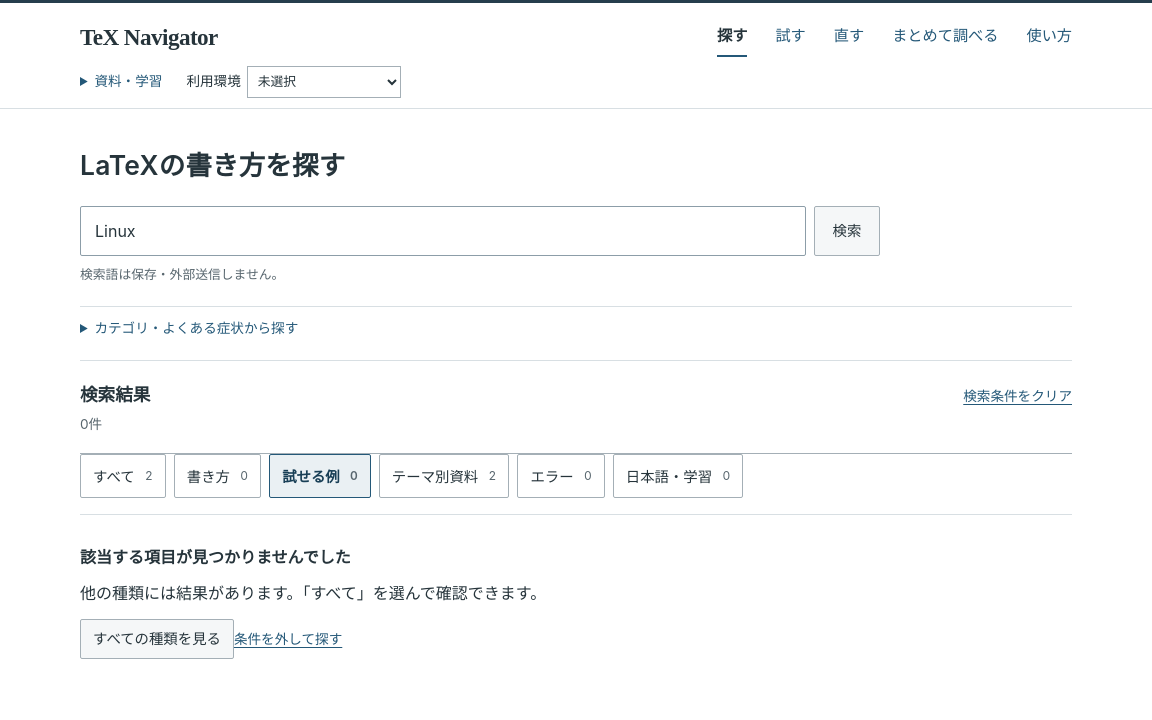
Scenario: 別の種類に結果がある場合は、同じ検索語で全種類へ戻せる
Expected: the text "他の種類には結果があります。「すべて」を選んで確認できます。" is shown, [80,583,546,603]
Click the button "すべての種類を見る": (157, 639) [80,619,234,659]
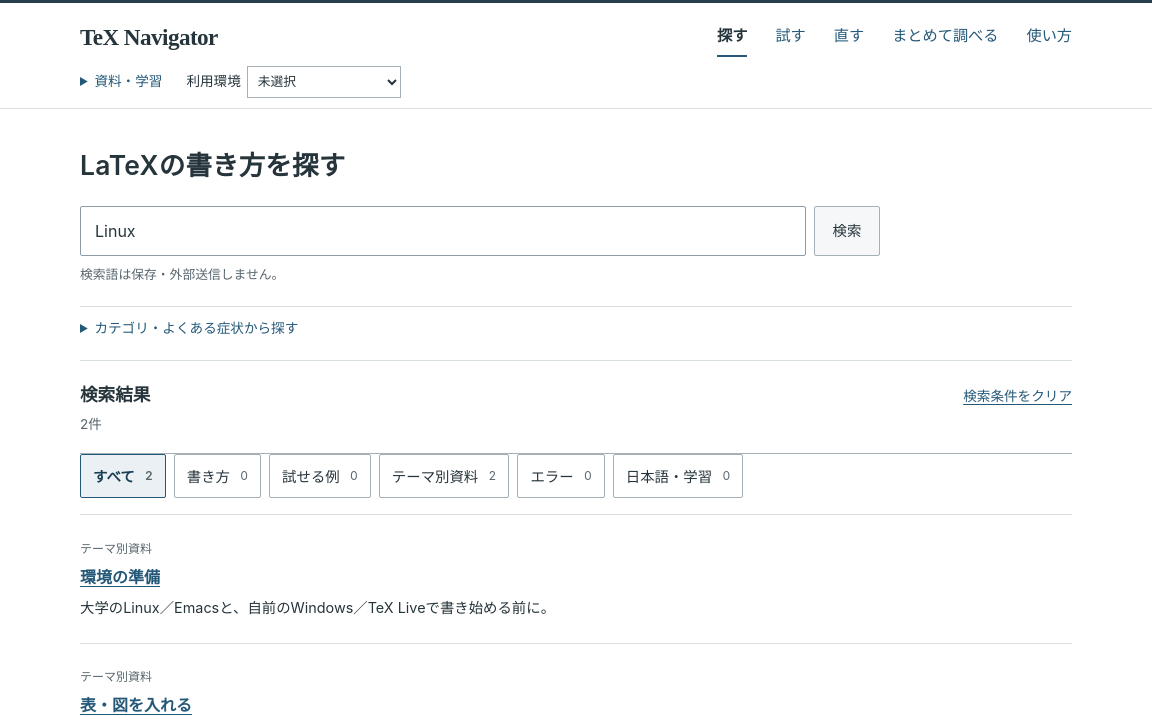
Expected: the search field holds "Linux", [80,206,806,256]
Click the link with aria-label "環境の準備（テーマ別資料）": (120, 577) [80,567,160,587]
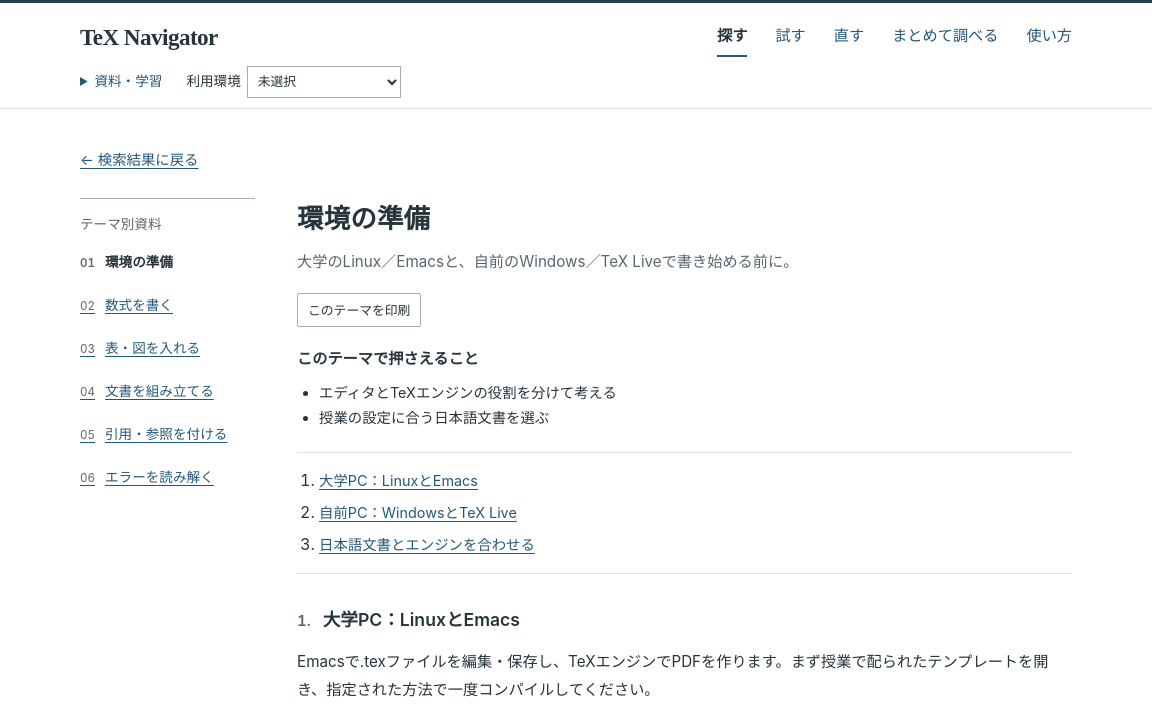
Now the heading "1. 大学PC：LinuxとEmacs" is shown, box [297,609,520,630]
